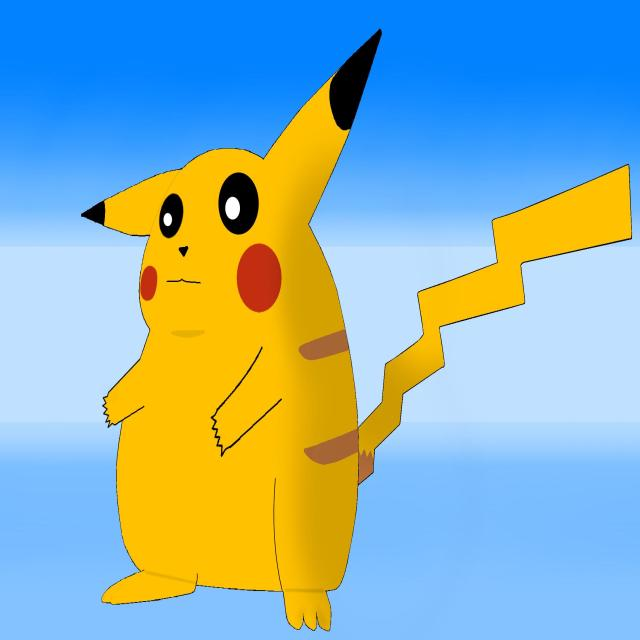pikachu: (81, 24, 632, 630)
